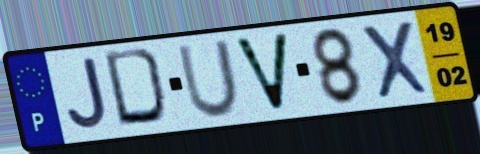8: (309, 25, 366, 108)
D: (100, 45, 174, 129)
J: (64, 54, 110, 133)
U: (174, 37, 242, 120)
V: (230, 30, 292, 115)
X: (356, 17, 434, 102)
